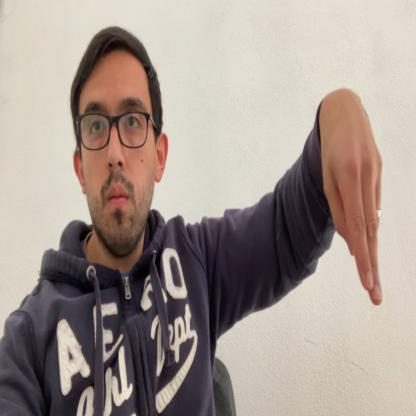N: (320, 88, 384, 307)
